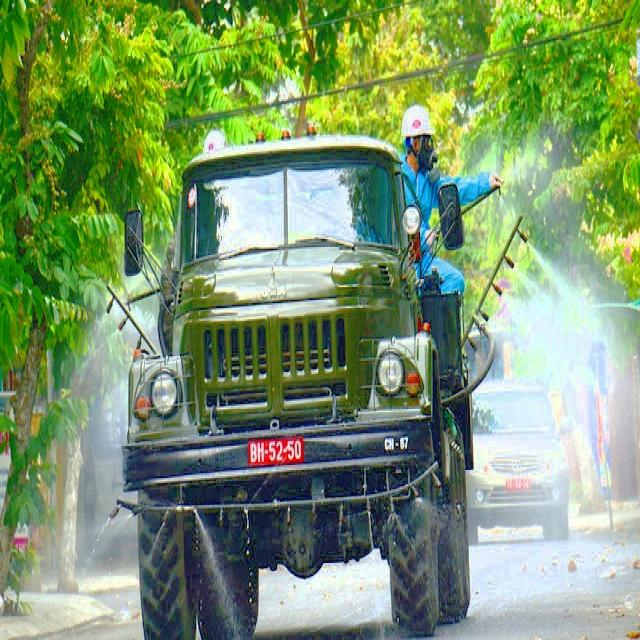license_plate: (248, 434, 306, 467)
